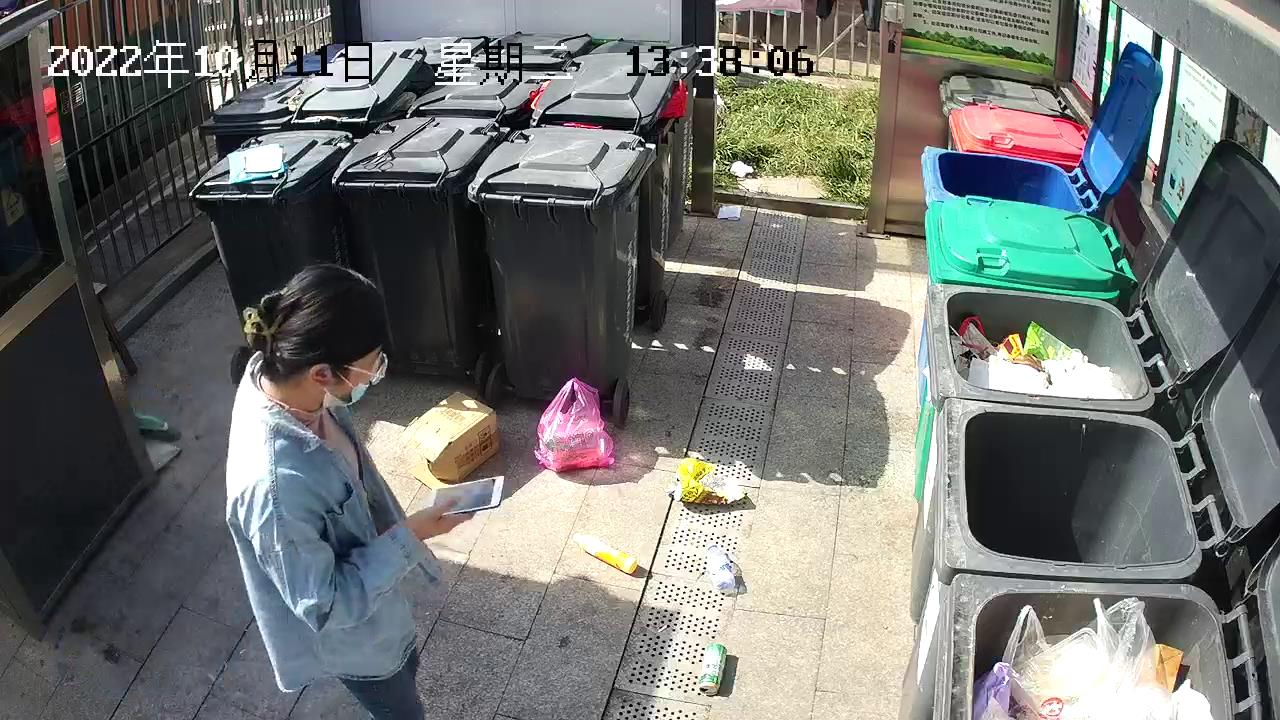garbage: (665, 451, 751, 510)
garbage-bag: (530, 373, 618, 475)
lvzhipin: (695, 638, 732, 699)
suliaozhipin: (569, 528, 643, 577), (702, 537, 739, 595)
worker: (217, 256, 512, 720)
zhizhipin: (396, 386, 506, 489)
